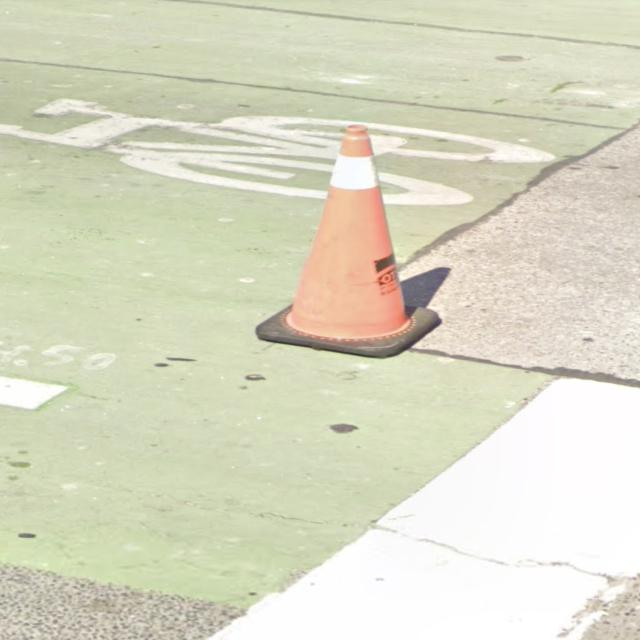Traffic Cone: (254, 124, 446, 360)
